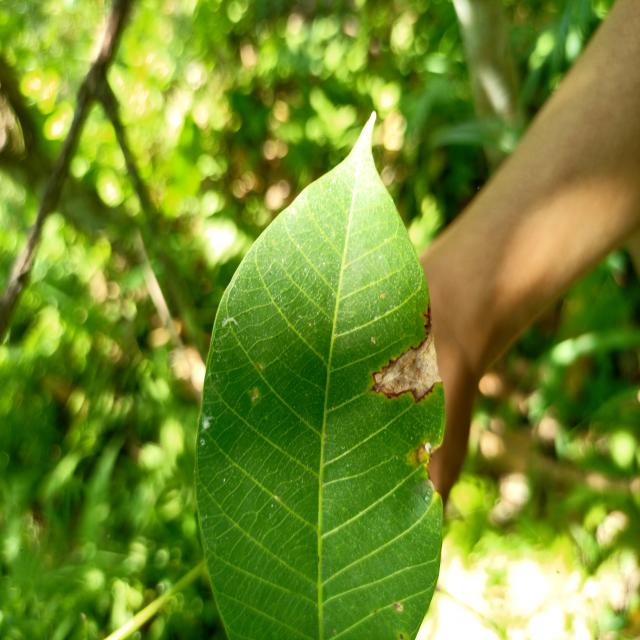Corynespora: (423, 304, 432, 342)
Leaf-Blight: (375, 334, 442, 398)
